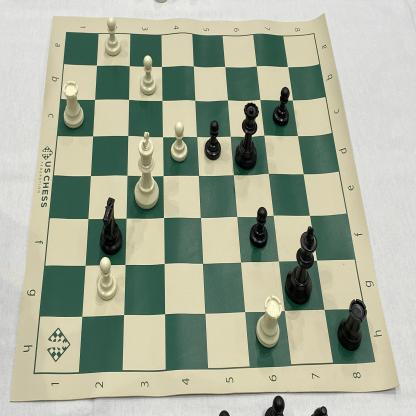black-king: (284, 222, 318, 309)
black-pawn: (246, 205, 269, 252), (203, 119, 223, 162), (272, 84, 291, 128)
black-queen: (233, 99, 262, 172)
black-rook: (336, 296, 367, 353), (97, 196, 124, 255)
white-king: (131, 130, 162, 211)
white-pawn: (93, 256, 118, 302), (168, 119, 189, 164), (101, 15, 122, 58), (138, 54, 158, 99)
white-rook: (254, 294, 283, 353), (58, 79, 86, 131)
